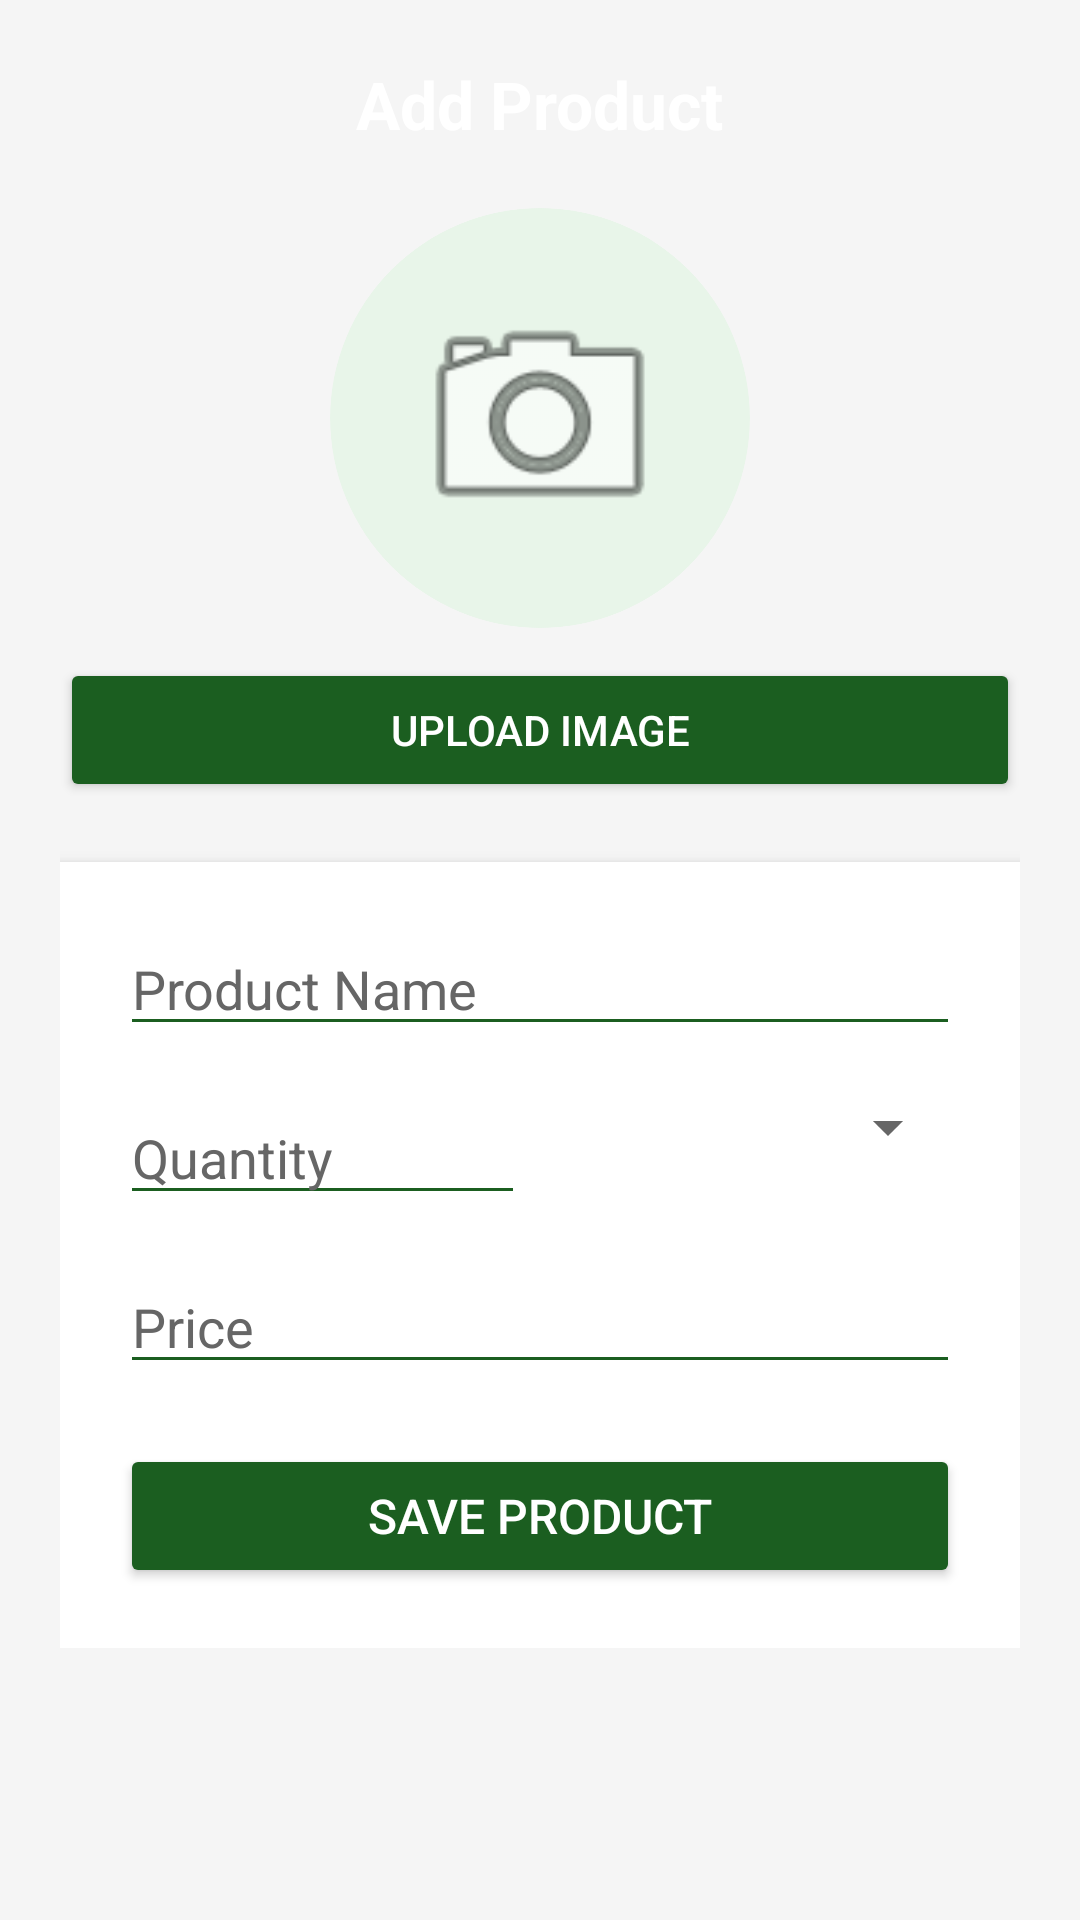

Locate icon controls on the screen. Image size 1080 × 1920, boxes as bbox=[x1, y1, x2, y2].
camera: bbox=[435, 330, 645, 498]
